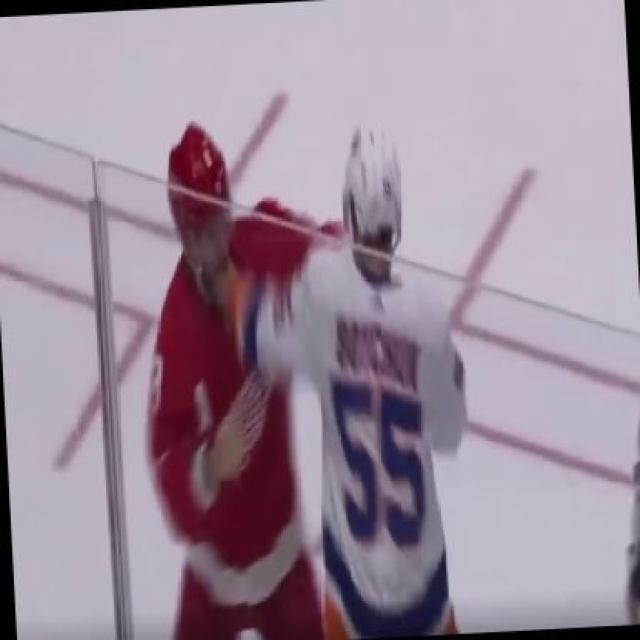fight: (92, 79, 528, 638)
